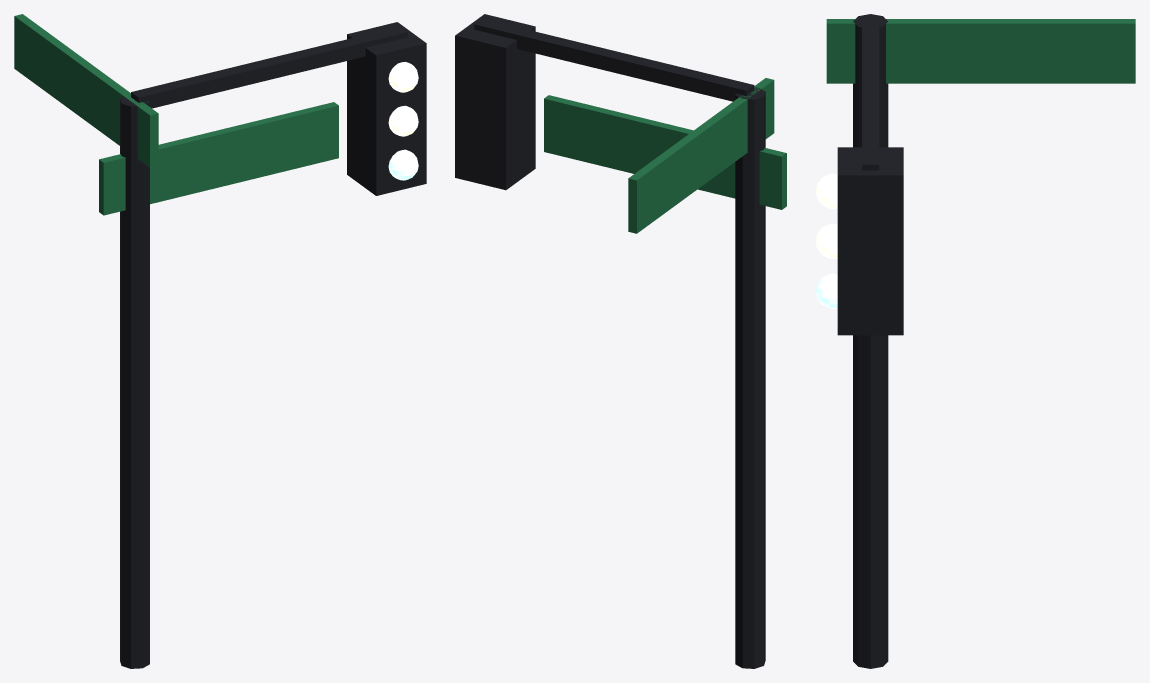
The model's file is street-sign.glb.
The picture shows the model from 3 angles, left to right: view 1: azimuth 30°, elevation 25°; view 2: azimuth 150°, elevation 25°; view 3: azimuth 270°, elevation 25°; orthographic projection. The views are drawn at different scales.
Visible parts, largest first — view 1: cw_paint, cw_glow, cw_neon; view 2: cw_paint; view 3: cw_paint, cw_glow, cw_neon.
Boxes of the visible parts, left/top/right/bottom form: cw_paint: left=14, top=14, right=426, bottom=668; cw_glow: left=388, top=62, right=418, bottom=136; cw_neon: left=388, top=149, right=418, bottom=180; cw_paint: left=455, top=14, right=786, bottom=668; cw_paint: left=826, top=14, right=1135, bottom=668; cw_glow: left=815, top=173, right=837, bottom=258; cw_neon: left=815, top=273, right=837, bottom=308.
Size of the model in its own units: 1.85 by 3.23 by 1.45.
